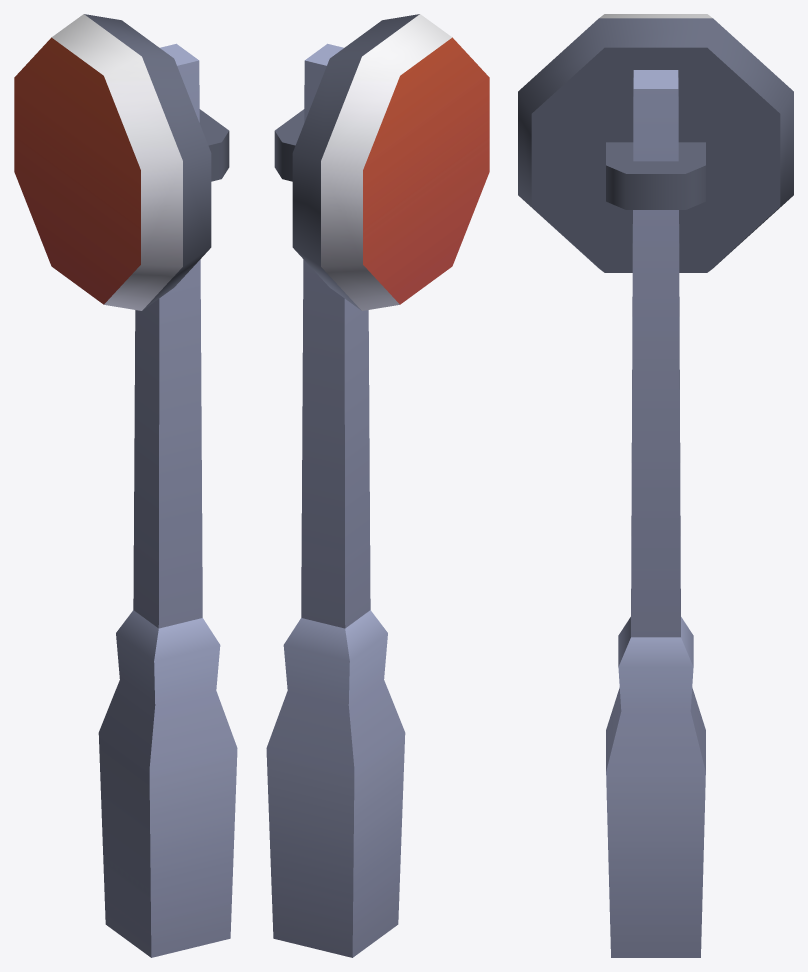
The picture shows the model from 3 angles, left to right: view 1: azimuth 30°, elevation 25°; view 2: azimuth 150°, elevation 25°; view 3: azimuth 270°, elevation 25°; orthographic projection.
Visible parts, largest first — view 1: road-sign-stop; view 2: road-sign-stop; view 3: road-sign-stop.
Boxes of the visible parts, <box> form: road-sign-stop: <box>14,14,237,957</box>; road-sign-stop: <box>266,14,489,957</box>; road-sign-stop: <box>518,14,793,957</box>.
Bounding box in the file's own units: 0.8277 × 5.28 × 1.48.
Materials: 1 (1 with a texture image).
